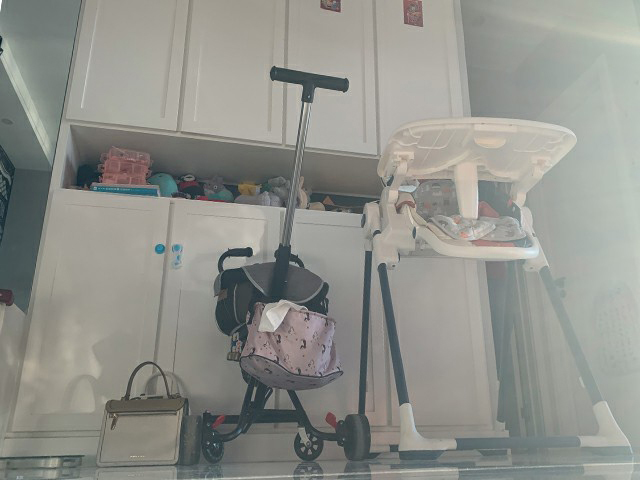cabinet: (1, 178, 487, 468)
